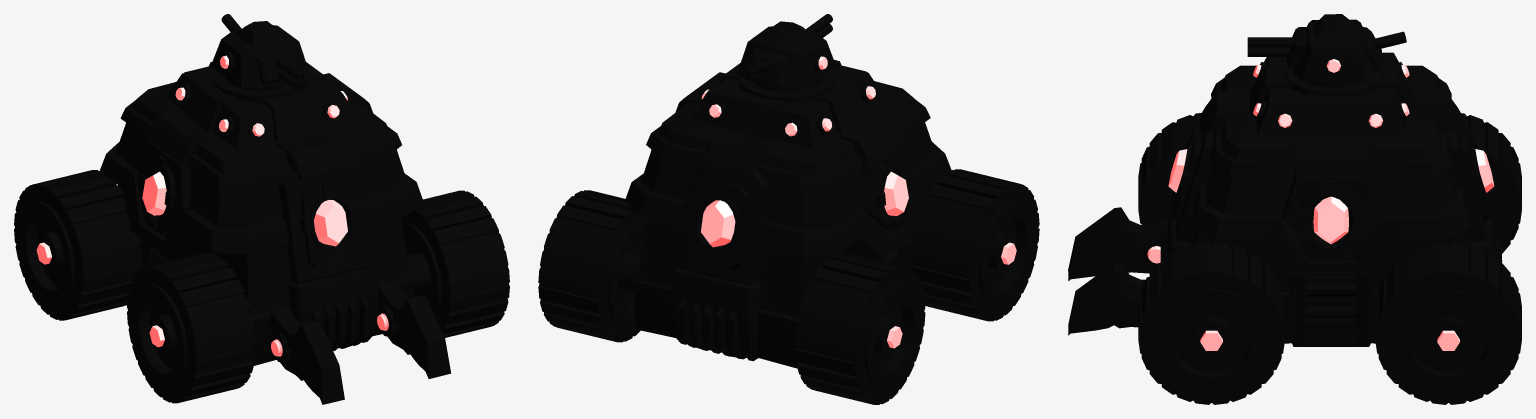
Rendered from MyEnemyHeavy.fbx.
3 views of the same model, side by side, from view 1: azimuth 30°, elevation 25°; view 2: azimuth 150°, elevation 25°; view 3: azimuth 270°, elevation 25° (orthographic). The views are drawn at different scales.
Visible parts, largest first — view 1: MyEnemyHeavy, wheels_front, wheels_back, emission; view 2: MyEnemyHeavy, wheels_back, wheels_front, emission; view 3: MyEnemyHeavy, wheels_back, wheels_front, emission.
Boxes of the visible parts, x1=… form: MyEnemyHeavy: x1=99, y1=14, x2=451, y2=404; wheels_front: x1=127, y1=190, x2=509, y2=403; wheels_back: x1=14, y1=170, x2=142, y2=320; emission: x1=142, y1=55, x2=388, y2=356; MyEnemyHeavy: x1=625, y1=14, x2=951, y2=368; wheels_back: x1=538, y1=190, x2=925, y2=404; wheels_front: x1=909, y1=169, x2=1039, y2=321; emission: x1=701, y1=56, x2=908, y2=247; MyEnemyHeavy: x1=1068, y1=14, x2=1502, y2=346; wheels_back: x1=1375, y1=113, x2=1521, y2=404; wheels_front: x1=1138, y1=113, x2=1284, y2=404; emission: x1=1147, y1=59, x2=1494, y2=263.
Size of the model in its own units: 1.15 by 0.9755 by 1.31.
